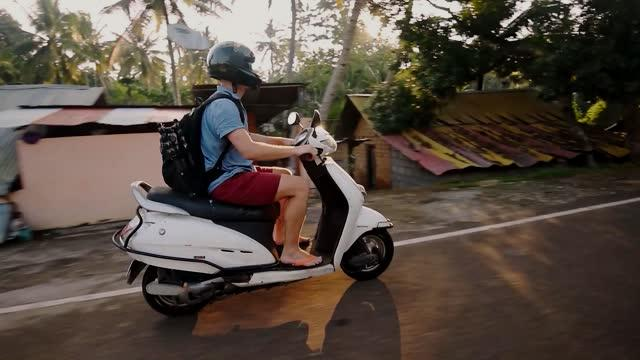motorcycle: (110, 42, 388, 313)
withHelmet: (204, 44, 263, 93)
